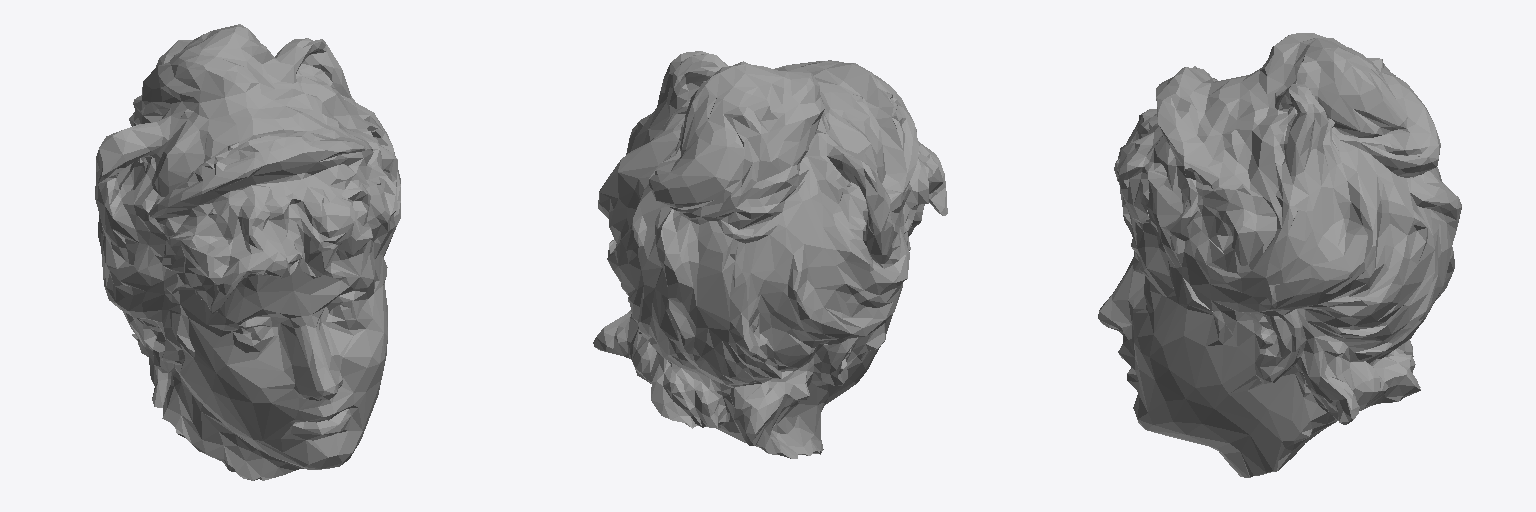
Rendered from female_head_low.obj.
3 views of the same model, side by side, from view 1: azimuth 30°, elevation 25°; view 2: azimuth 150°, elevation 25°; view 3: azimuth 270°, elevation 25° (orthographic).
Parts seen in each view (by area): view 1: female_head_low_female_head.001; view 2: female_head_low_female_head.001; view 3: female_head_low_female_head.001.
Part boxes in pixels (left/top/right/bottom): female_head_low_female_head.001: left=95, top=24, right=400, bottom=480; female_head_low_female_head.001: left=593, top=51, right=947, bottom=458; female_head_low_female_head.001: left=1098, top=33, right=1461, bottom=477.
Bounding box in the file's own units: 0.4981 × 0.7053 × 0.5612.